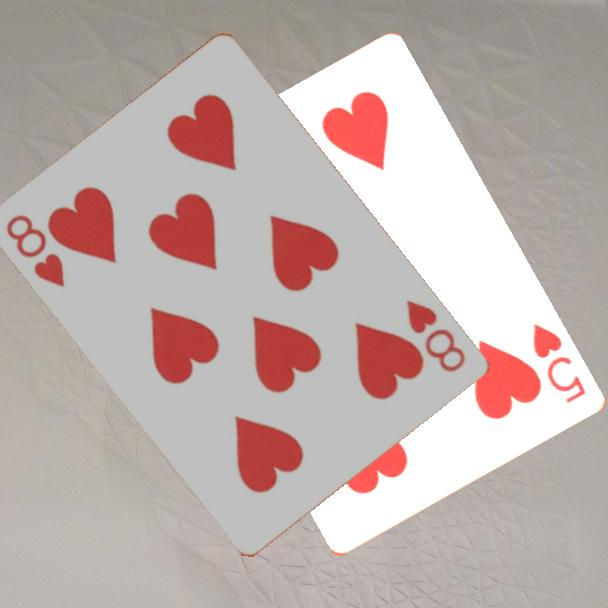h05: (529, 320, 590, 406)
h08: (403, 296, 470, 376), (3, 211, 69, 291)
